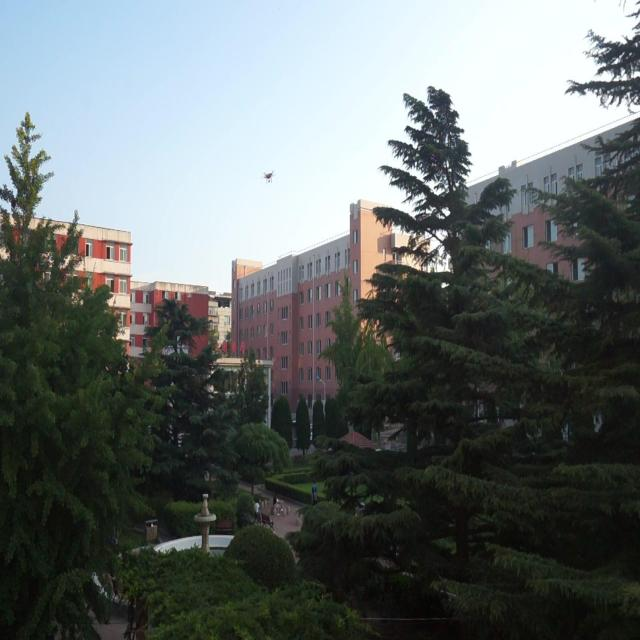drone: (261, 168, 278, 188)
